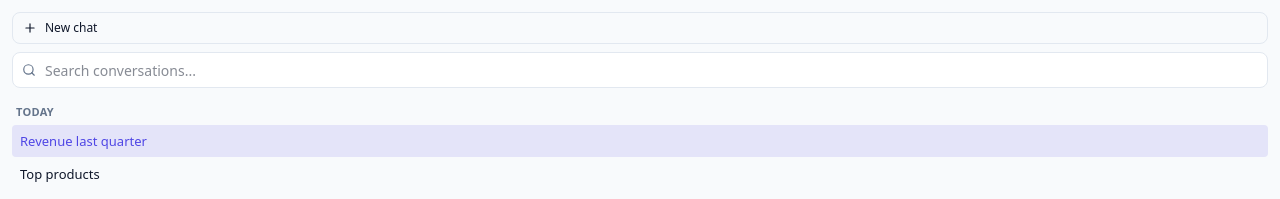
Sidebar › filters the visible conversations as the user types in search (client-side, no server history)
This screenshot has width=1280, height=199.
In the search field: (640, 70) [12, 52, 1268, 88], type "Revenue"
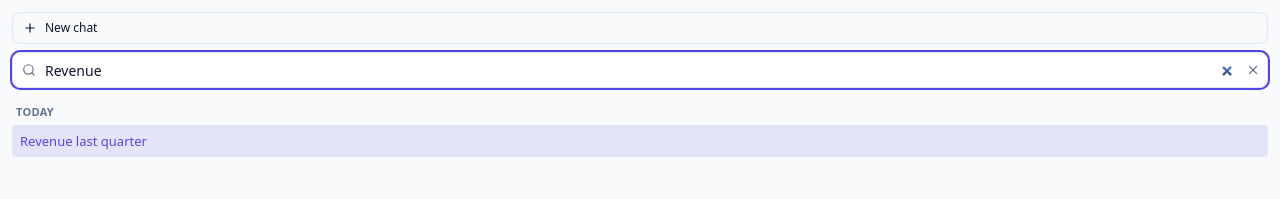
Expected: the text "Revenue last quarter" is shown, [20, 132, 147, 150]
Now the button "Top products" is gone
